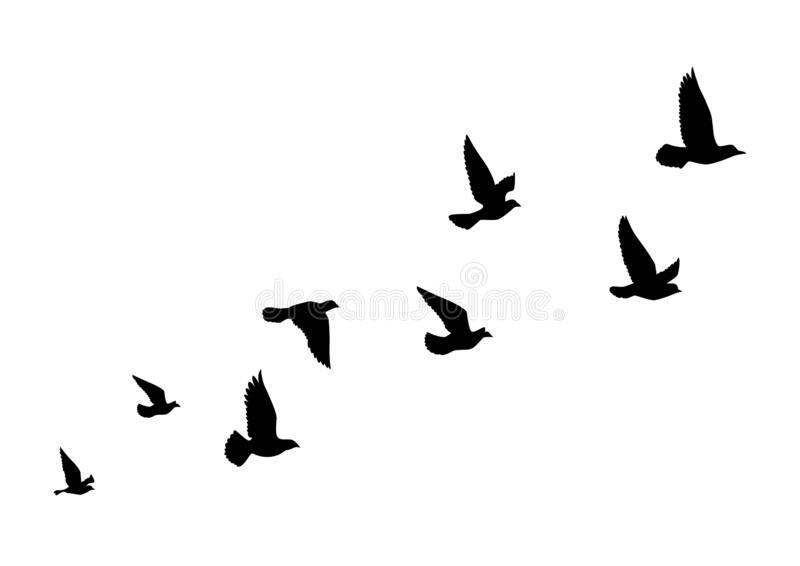bird: (602, 211, 692, 307), (121, 364, 186, 425), (45, 441, 98, 504)
